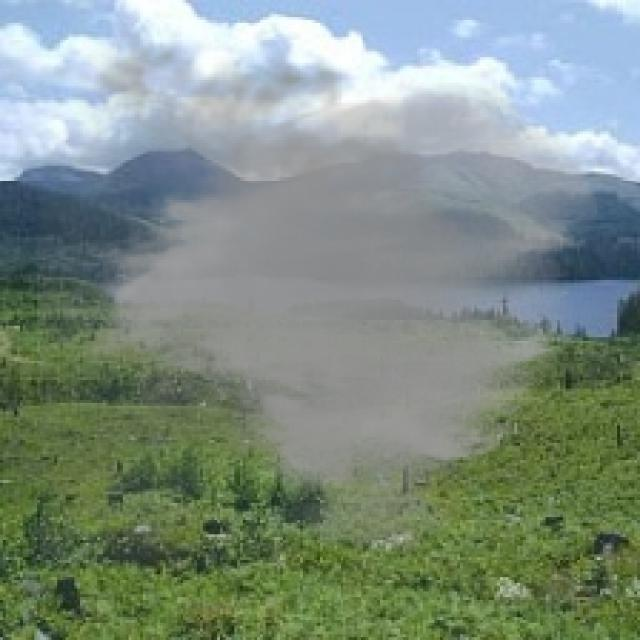smoke: (37, 26, 603, 566)
